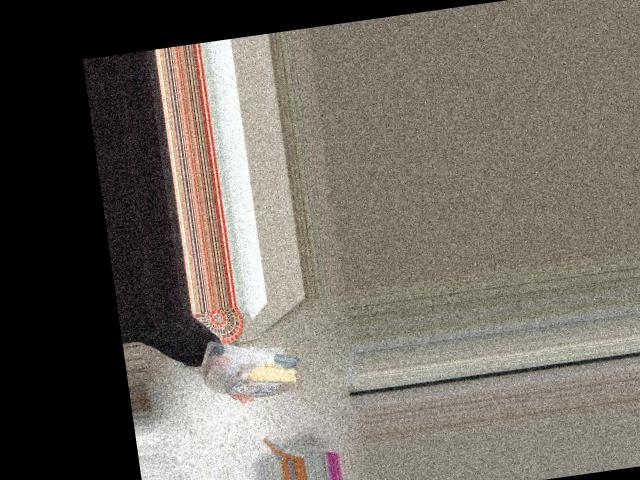cheese: (197, 322, 306, 404)
